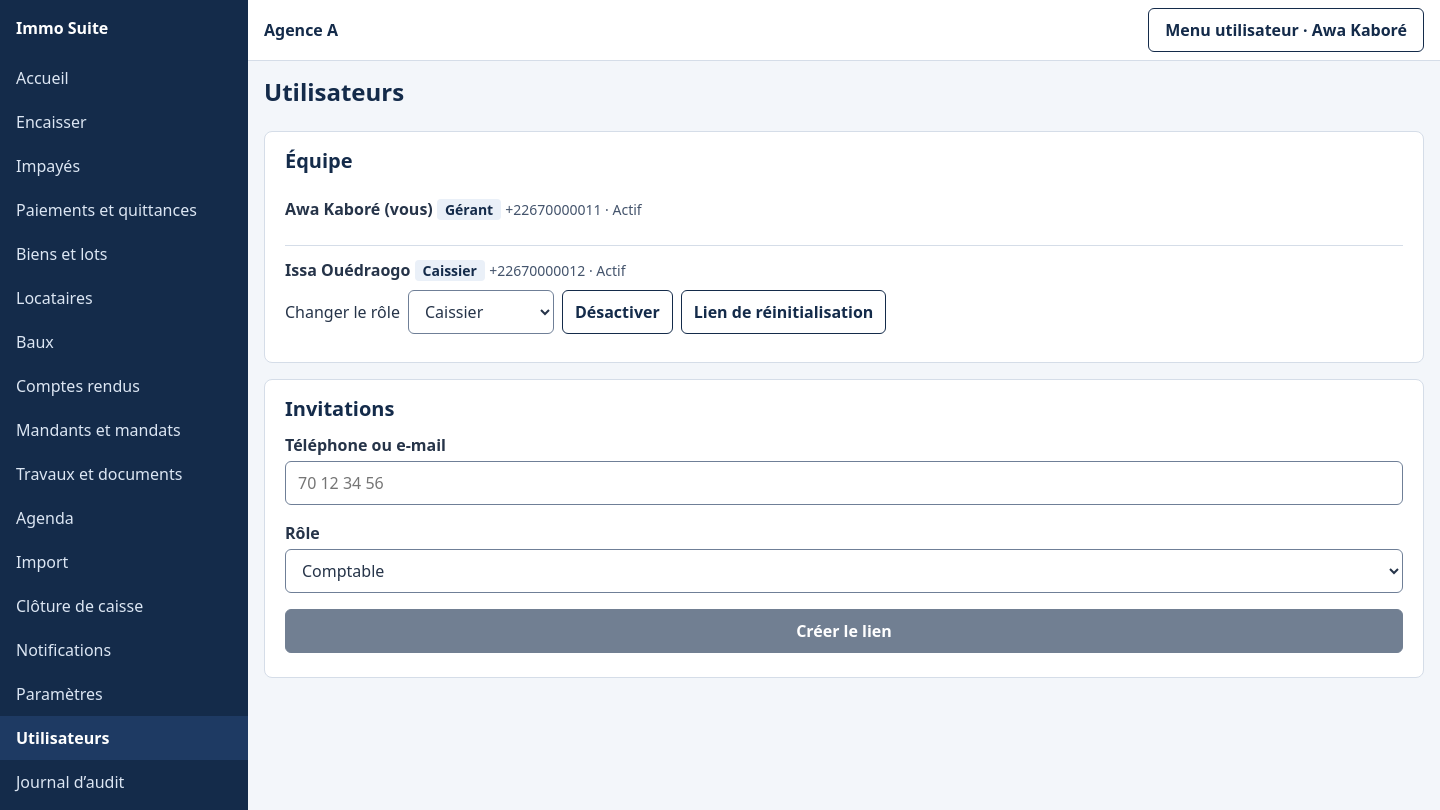
Scenario: utilisateurs et confirmation du mot de passe › changer un rôle : modale de confirmation, puis action rejouée une fois
Step 1. Select "Comptable" in the dropdown named "Changer le rôle : Issa Ouédraogo" → (481, 312), box [408, 290, 554, 334]
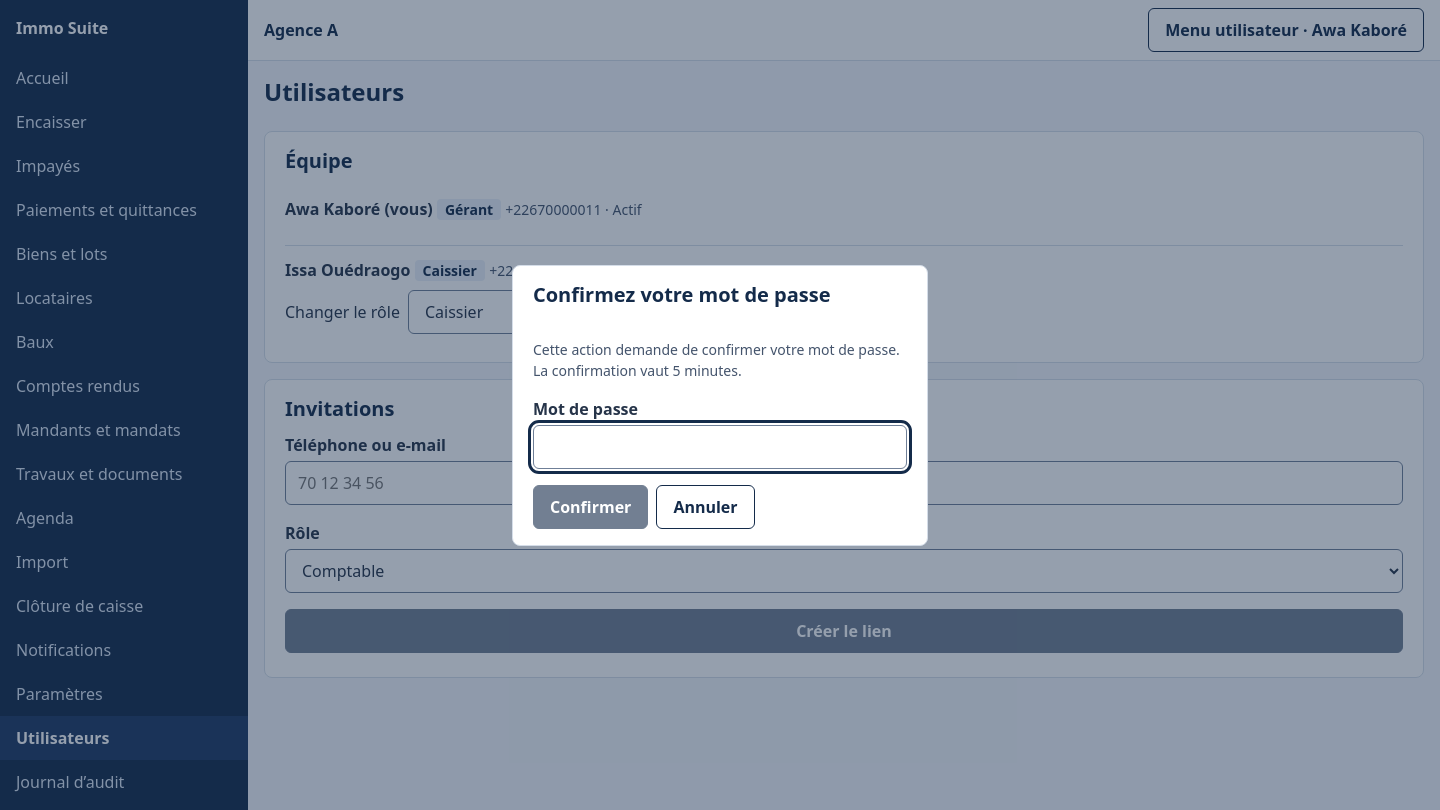
Step 2. Type "un mot de passe correct" into the password field labelled "Mot de passe" → (720, 446), box [533, 424, 907, 468]
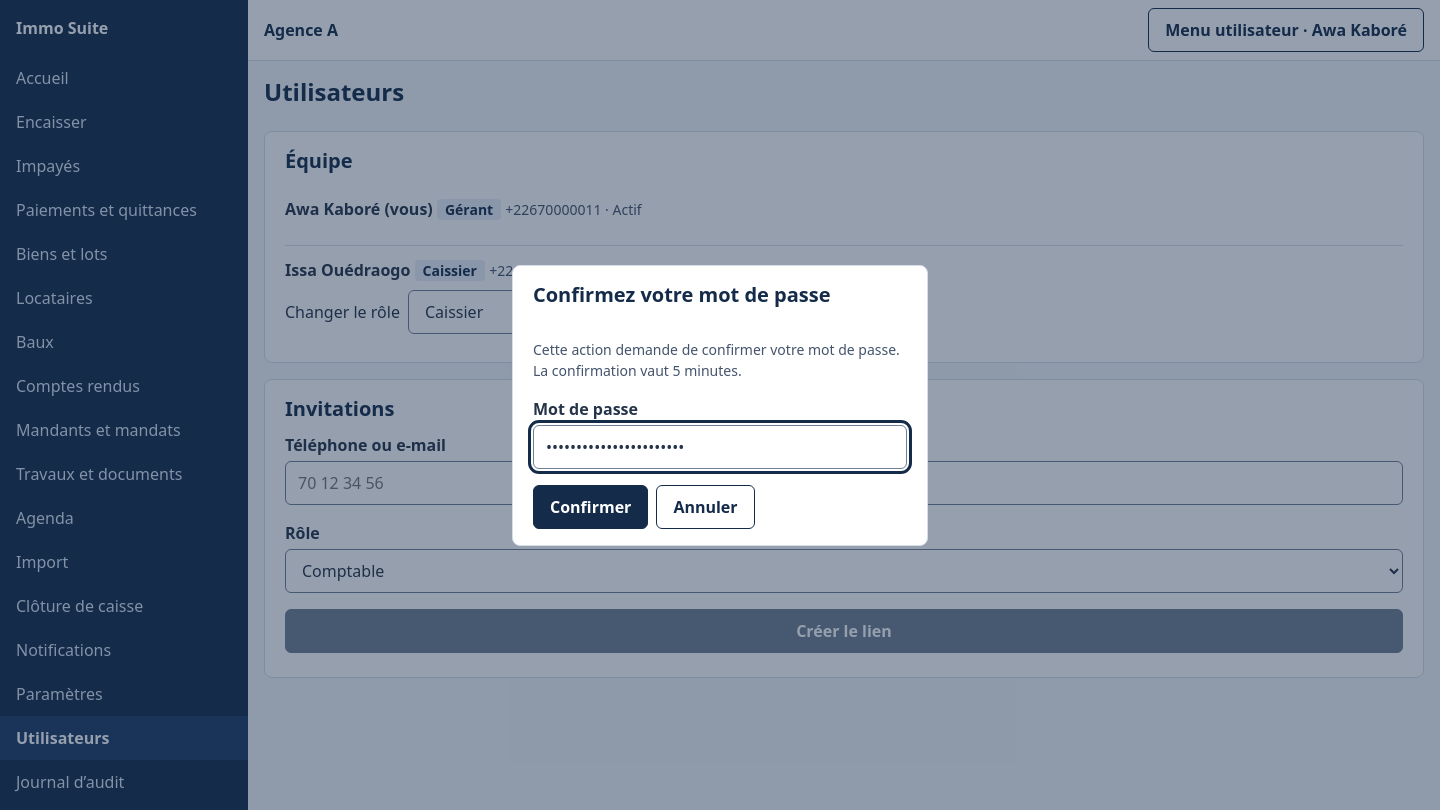
Step 3. Click the button "Confirmer" → (591, 506), box [533, 484, 648, 528]
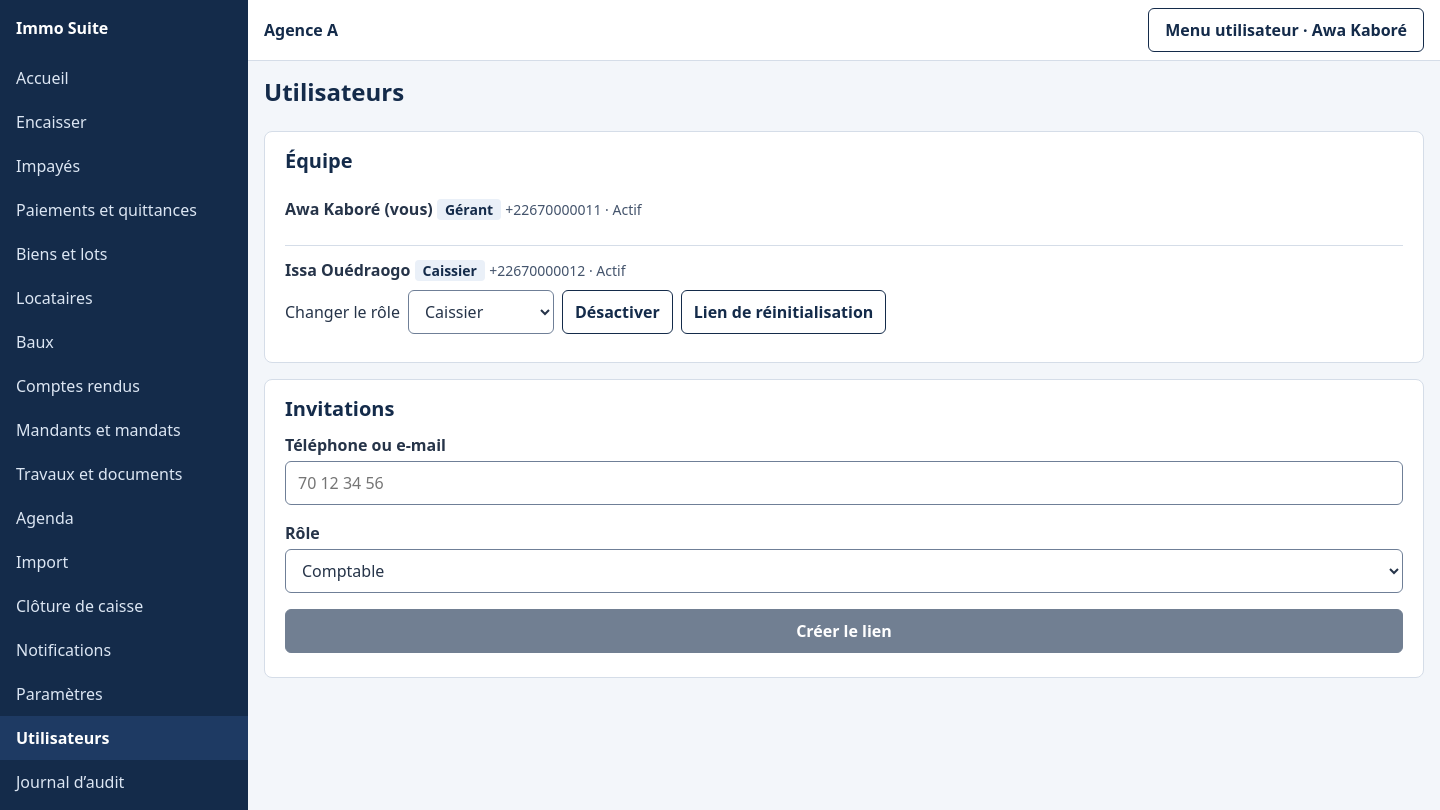
Expected: the dialog is gone
